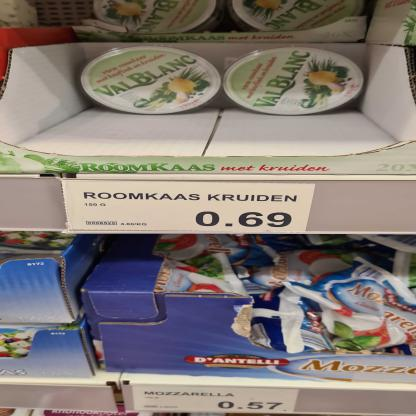prtg: (62, 181, 318, 234), (133, 387, 300, 413)
